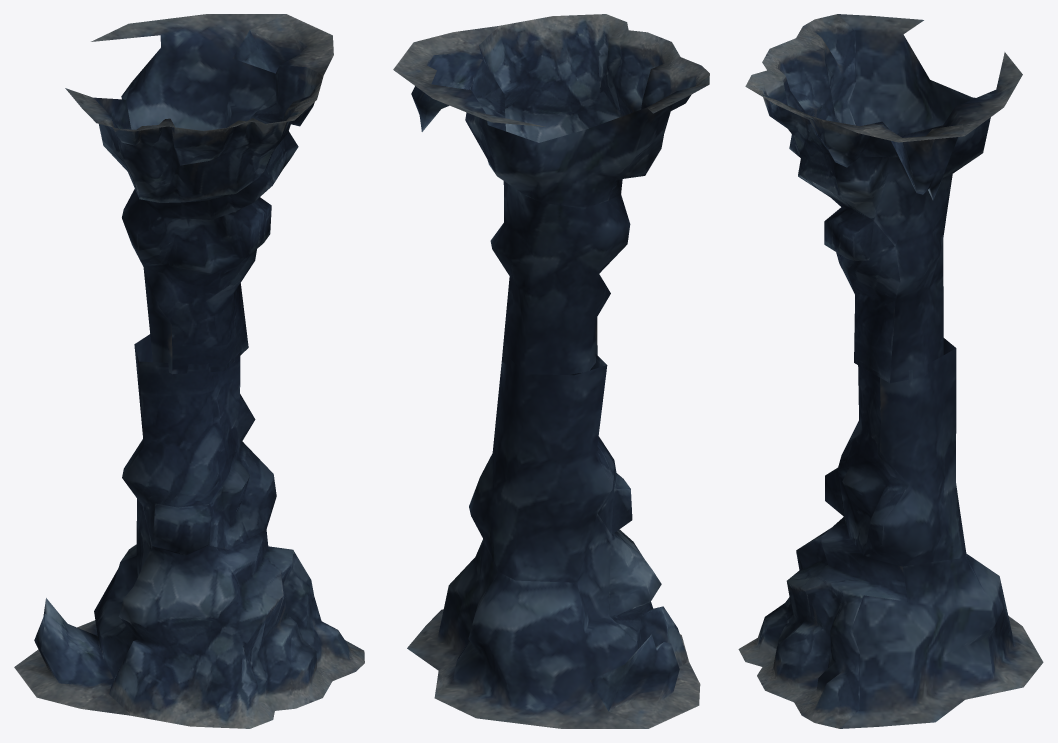
The model's file is Area_02_2.fbx.
3 renders of one model, left to right at view 1: azimuth 30°, elevation 25°; view 2: azimuth 150°, elevation 25°; view 3: azimuth 270°, elevation 25°, orthographic.
Parts seen in each view (by area): view 1: Area_02_2; view 2: Area_02_2; view 3: Area_02_2.
Boxes of the visible parts, bbox=[...] form: Area_02_2: bbox=[14, 14, 364, 728]; Area_02_2: bbox=[393, 14, 709, 728]; Area_02_2: bbox=[738, 14, 1043, 728].
Bounding box in the file's own units: 3192 × 6169 × 2913.
